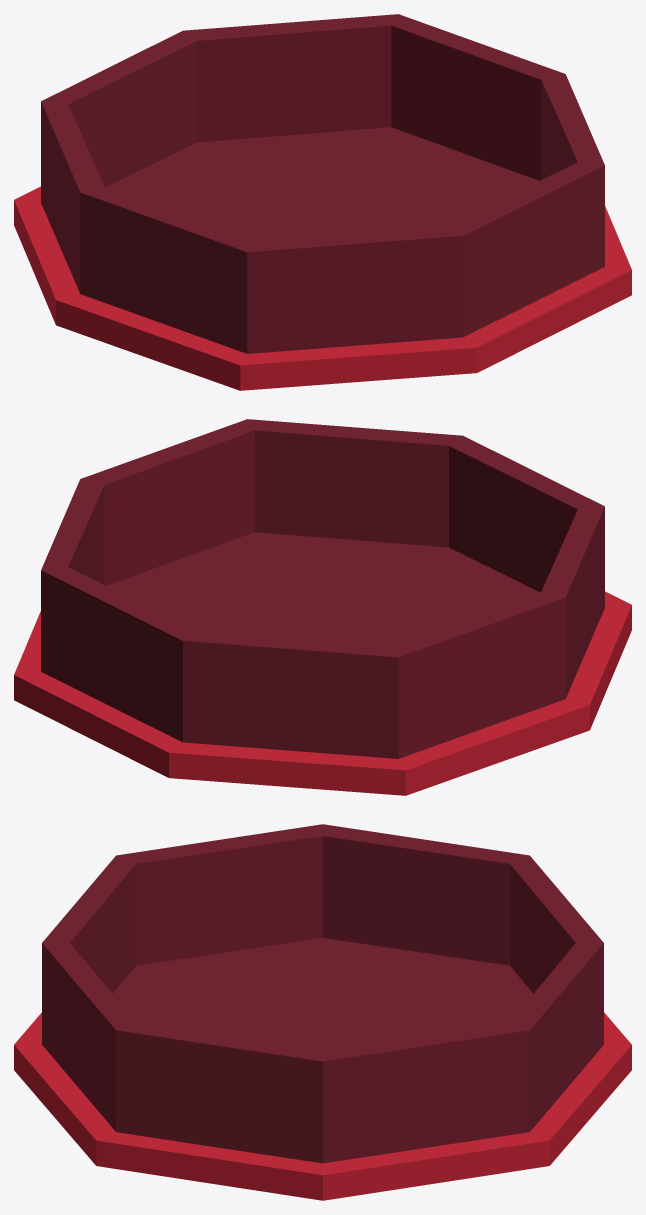
The model's file is tower_bottom_001_msh.fbx.
3 views of the same model, one above another, from view 1: azimuth 30°, elevation 25°; view 2: azimuth 150°, elevation 25°; view 3: azimuth 270°, elevation 25° (orthographic).
Visible parts, largest first — view 1: tower_bottom_001_msh; view 2: tower_bottom_001_msh; view 3: tower_bottom_001_msh.
Boxes of the visible parts, x1=… form: tower_bottom_001_msh: x1=14, y1=14, x2=631, y2=390; tower_bottom_001_msh: x1=14, y1=419, x2=631, y2=795; tower_bottom_001_msh: x1=14, y1=824, x2=631, y2=1200.
Size of the model in its own units: 440 by 100 by 440.
